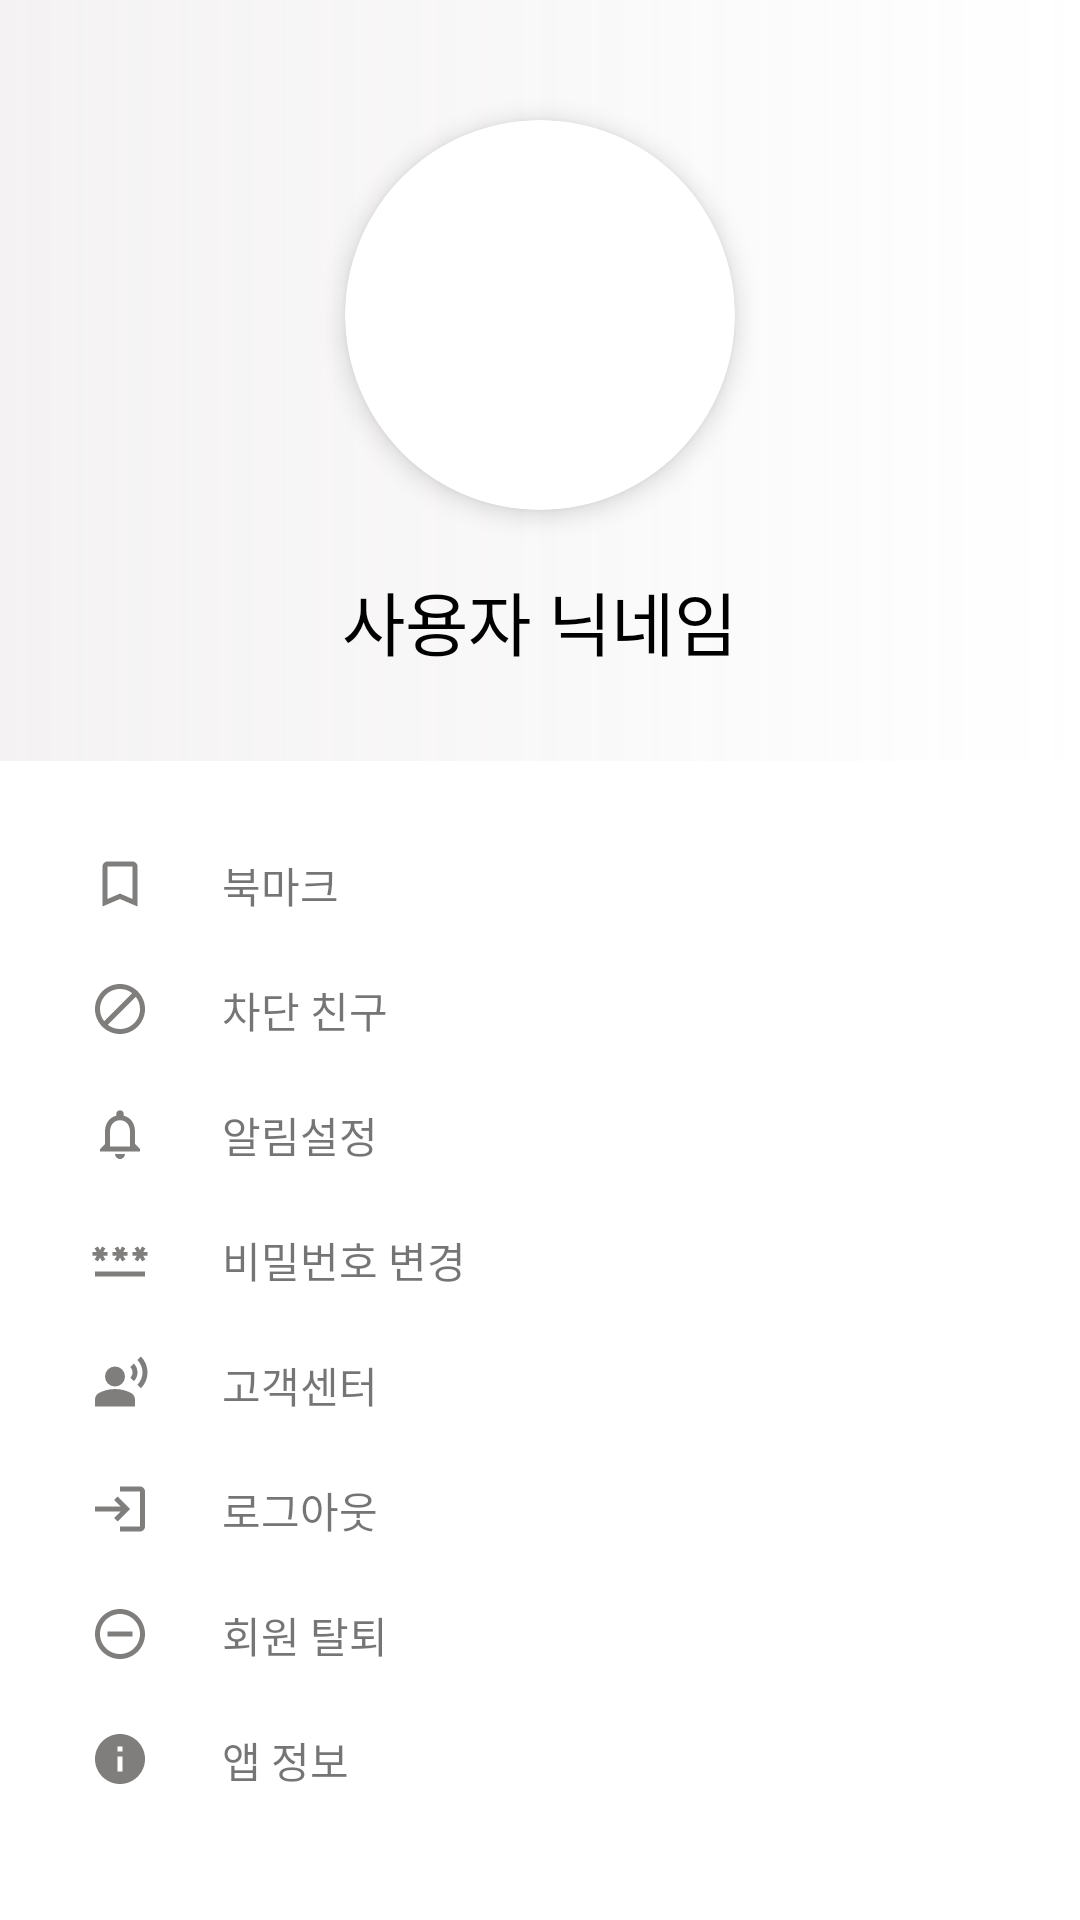

Screen size 1080 × 1920. Icon name, then its box in pixels as (x1, y1, x2, y2):
block: (95, 984, 145, 1034)
book mark: (102, 861, 138, 906)
info: (95, 1734, 145, 1784)
noti: (100, 1110, 140, 1159)
password: (92, 1246, 148, 1277)
service: (95, 1357, 148, 1407)
